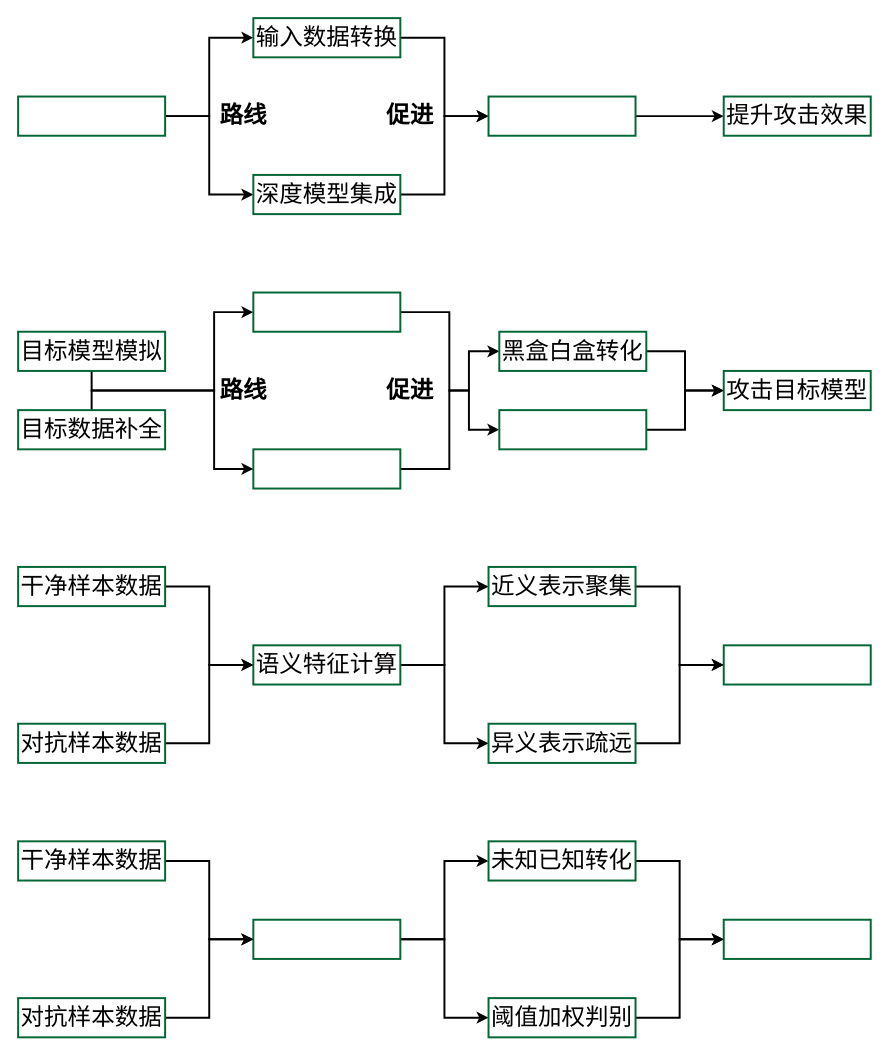
Image size: 888x1054. Some labels were removed from this diagram. The shapes that lost their labels are listed below. From the top down, each one's centre as x and y in pixels, then its label:
point 91,115: 通用对抗扰动
point 561,115: 优化梯度方向
point 326,311: 替代模型训练
point 572,429: 对抗样本迁移
point 326,468: 少样样本扩散
point 796,664: 提升防御效果
point 326,938: 嵌入特征对比
point 796,938: 对抗训练防御
